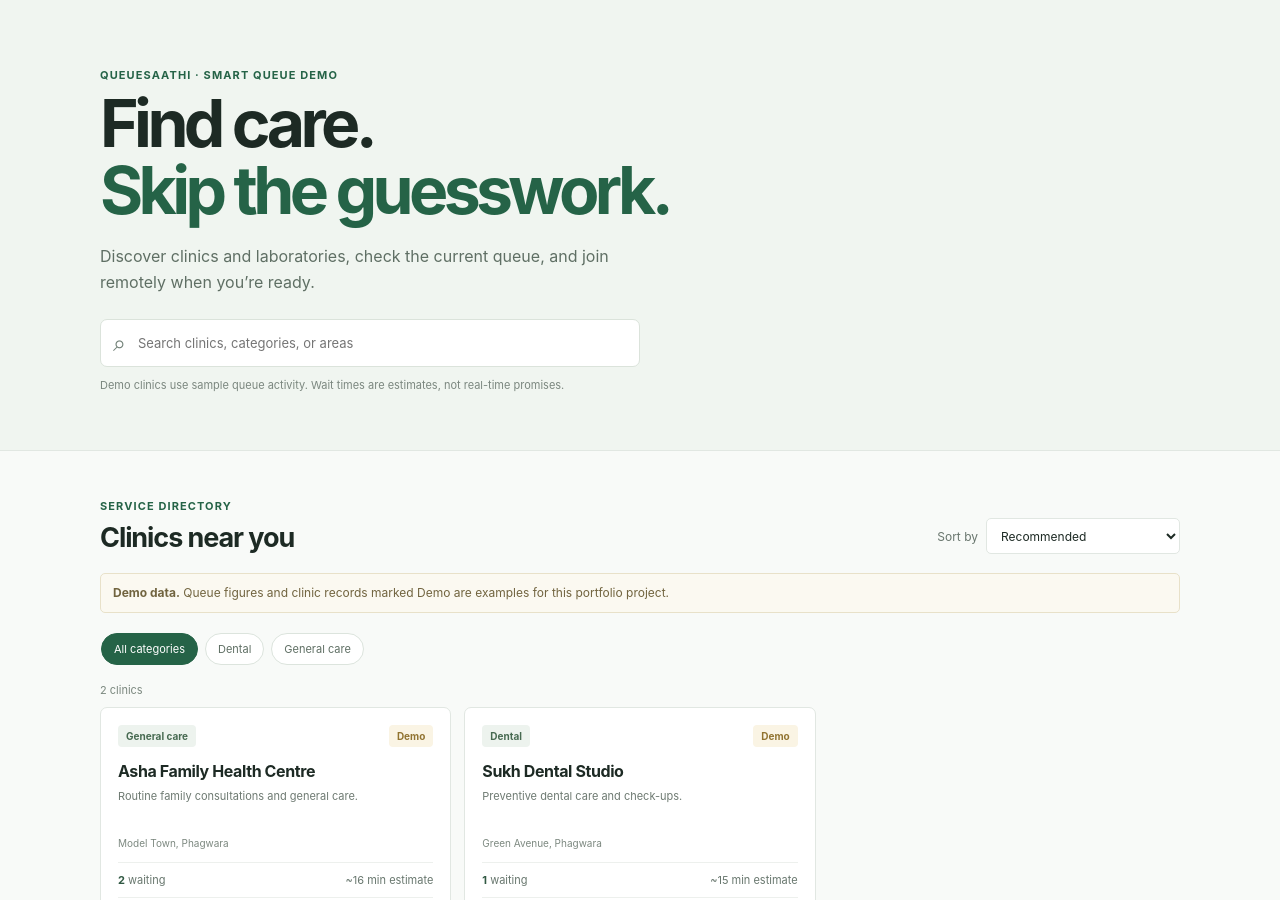
it: public clinic directory › filters clinics by category and restores all categories
expect the link "Asha Family Health Centre" is shown: met, box [118,761,315,781]
Click the button "Dental" at [235, 649], box [205,633,264,665]
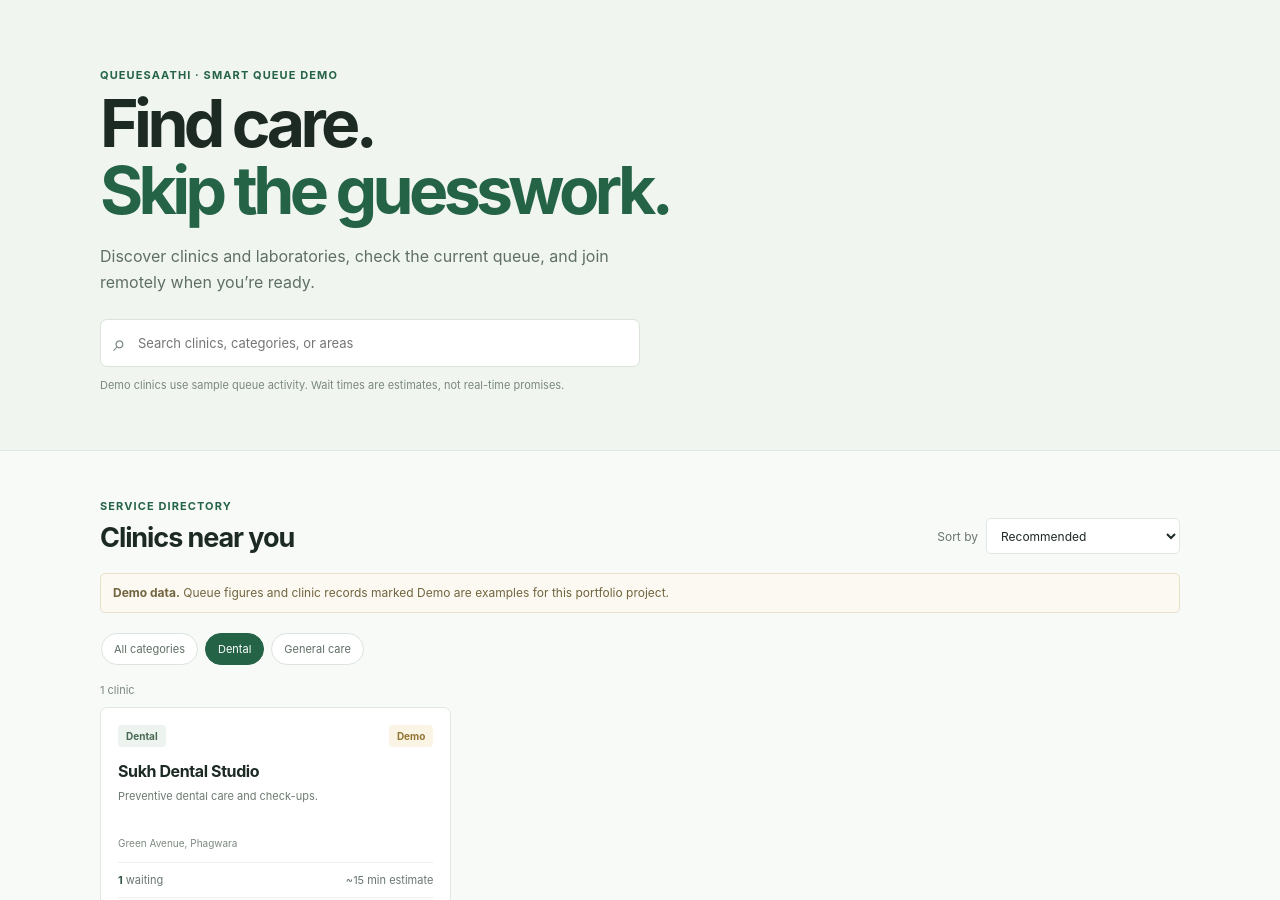
expect the link "Sukh Dental Studio" is shown: met, box [118,761,259,781]
expect the link "Asha Family Health Centre" is gone: met
Click the button "All categories" at [150, 649], box [101,633,198,665]
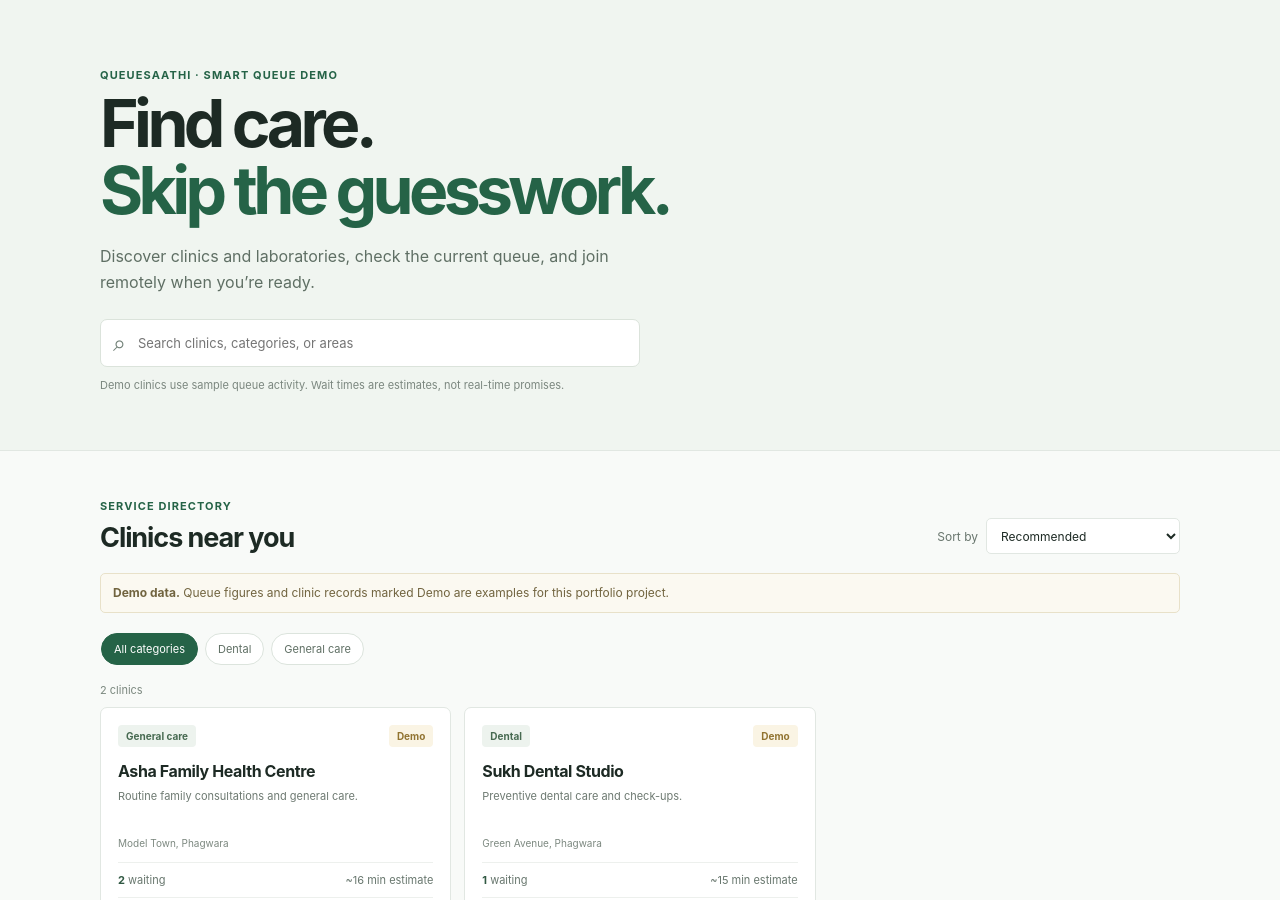
expect the link "Asha Family Health Centre" is shown: met, box [118,761,315,781]
